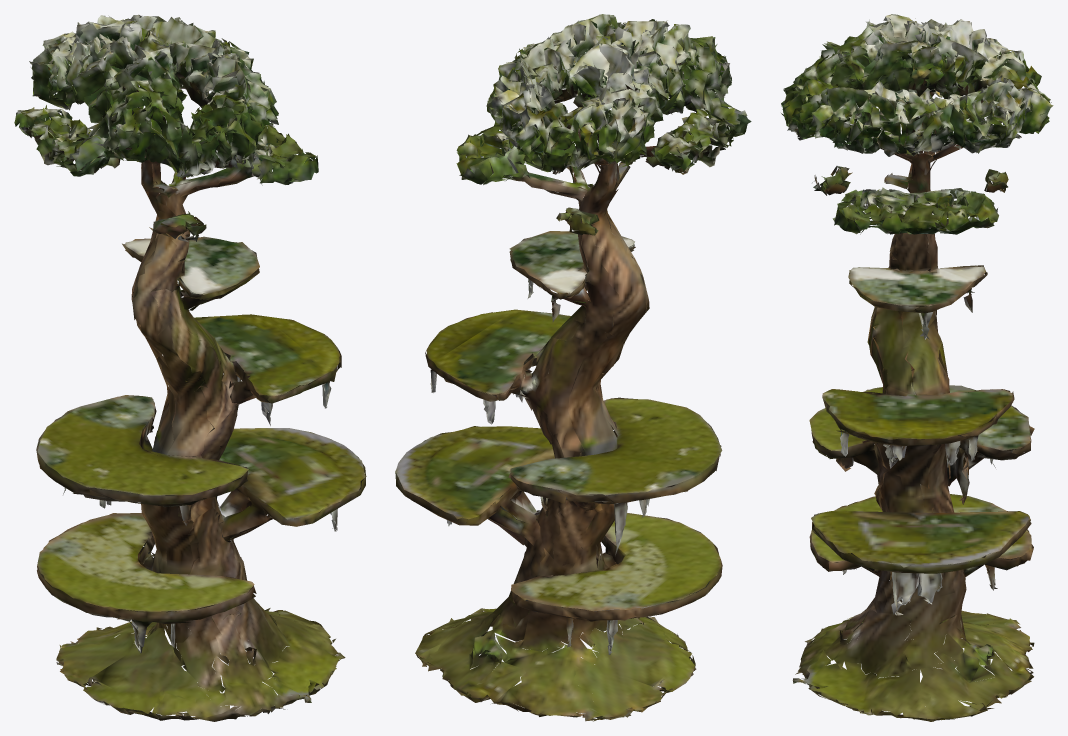
Rendered from F3D_06_RootPlatforms.fbx.
3 views of the same model, side by side, from view 1: azimuth 30°, elevation 25°; view 2: azimuth 150°, elevation 25°; view 3: azimuth 270°, elevation 25° (orthographic). The views are drawn at different scales.
Parts seen in each view (by area): view 1: F3D_06_RootPlatforms; view 2: F3D_06_RootPlatforms; view 3: F3D_06_RootPlatforms.
Boxes of the visible parts, bbox=[...] form: F3D_06_RootPlatforms: bbox=[14, 14, 366, 721]; F3D_06_RootPlatforms: bbox=[395, 14, 751, 721]; F3D_06_RootPlatforms: bbox=[781, 14, 1053, 721].
Bounding box in the file's own units: 0.4912 × 1 × 0.4027.
